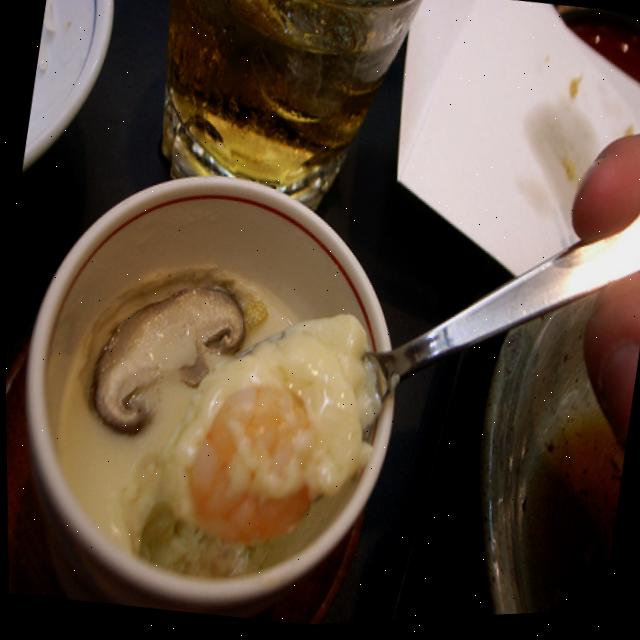鸡蛋料理: (5, 140, 431, 640)
